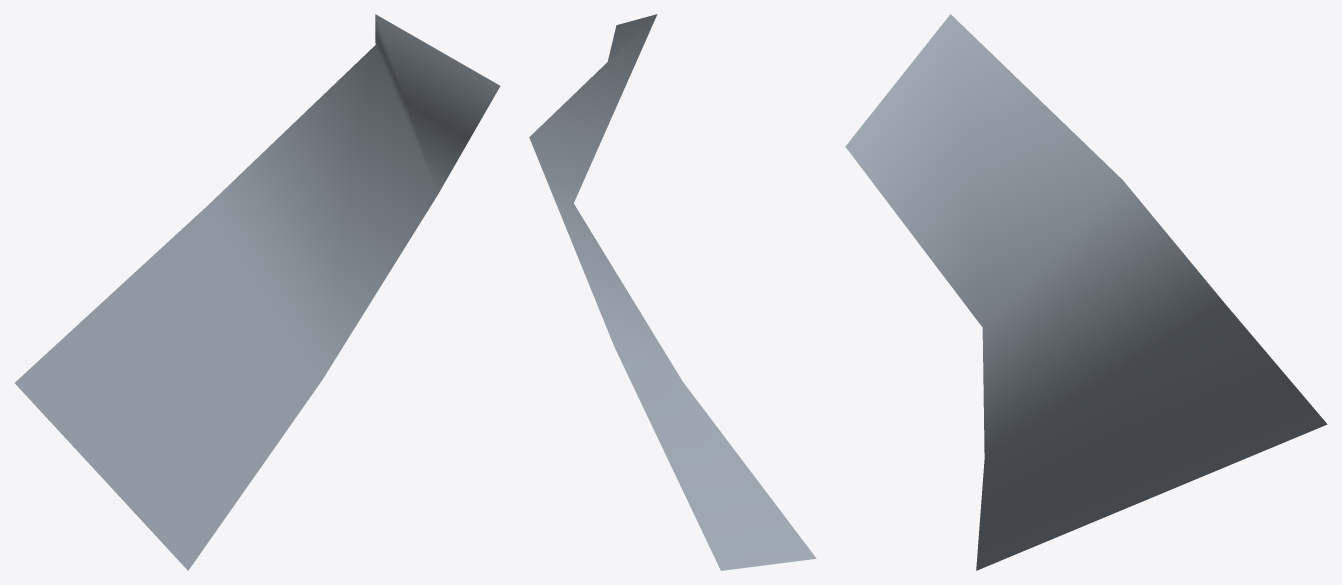
File: posterior-talocalcaneal-ligament-r.glb
The picture shows the model from 3 angles, left to right: view 1: azimuth 30°, elevation 25°; view 2: azimuth 150°, elevation 25°; view 3: azimuth 270°, elevation 25°; orthographic projection. The views are drawn at different scales.
Visible parts, largest first — view 1: Posterior talocalcaneal ligament.r; view 2: Posterior talocalcaneal ligament.r; view 3: Posterior talocalcaneal ligament.r.
Boxes of the visible parts, left/top/right/bottom form: Posterior talocalcaneal ligament.r: left=15, top=14, right=500, bottom=570; Posterior talocalcaneal ligament.r: left=529, top=14, right=816, bottom=570; Posterior talocalcaneal ligament.r: left=845, top=14, right=1327, bottom=570.
Size of the model in its own units: 0.00823 by 0.0138 by 0.009.
